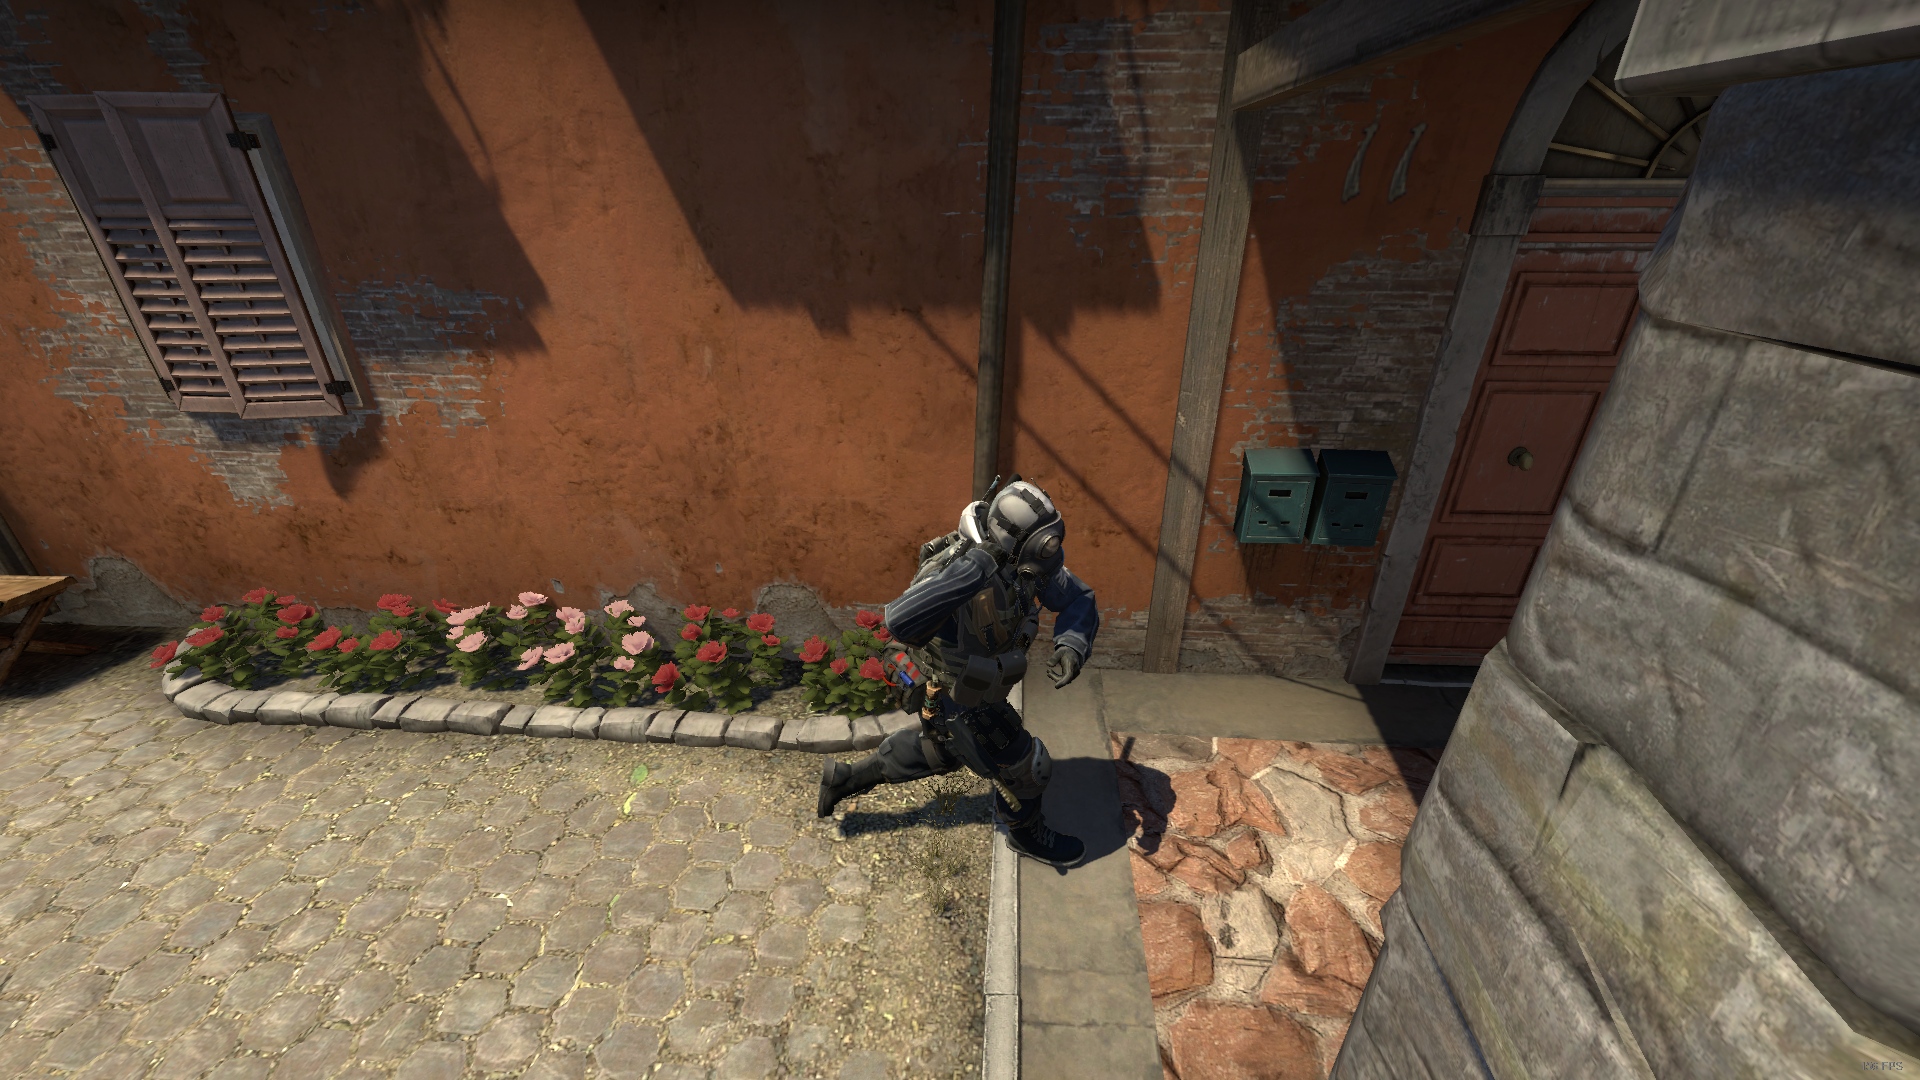ct: (818, 479, 1101, 866)
